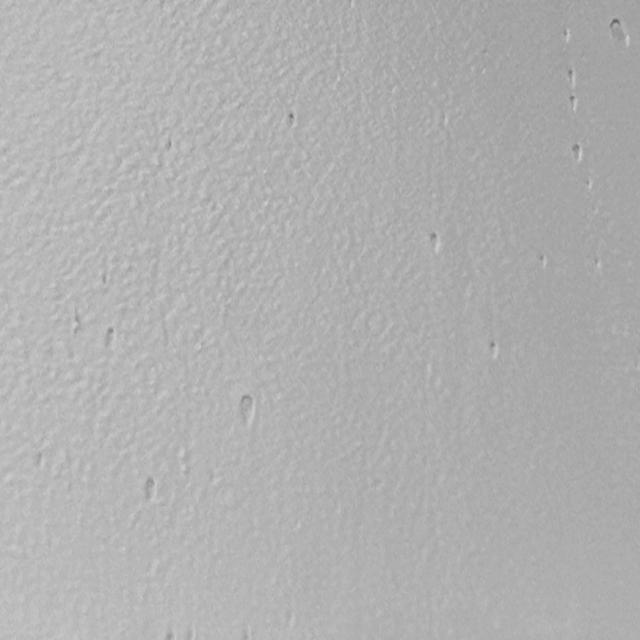pin holes: (235, 392, 259, 426), (606, 17, 629, 48), (141, 476, 162, 504), (485, 338, 504, 363), (425, 230, 443, 256), (590, 252, 608, 276), (103, 324, 120, 348), (569, 142, 586, 165), (286, 112, 302, 133), (164, 132, 178, 156), (72, 309, 82, 340), (568, 92, 582, 114), (560, 24, 572, 46), (566, 67, 578, 88), (536, 253, 550, 270)
